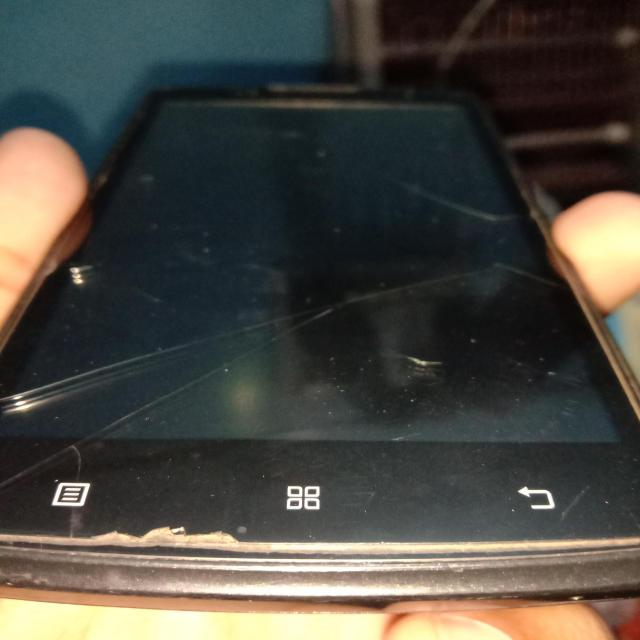mobile-phone: (0, 46, 640, 591)
